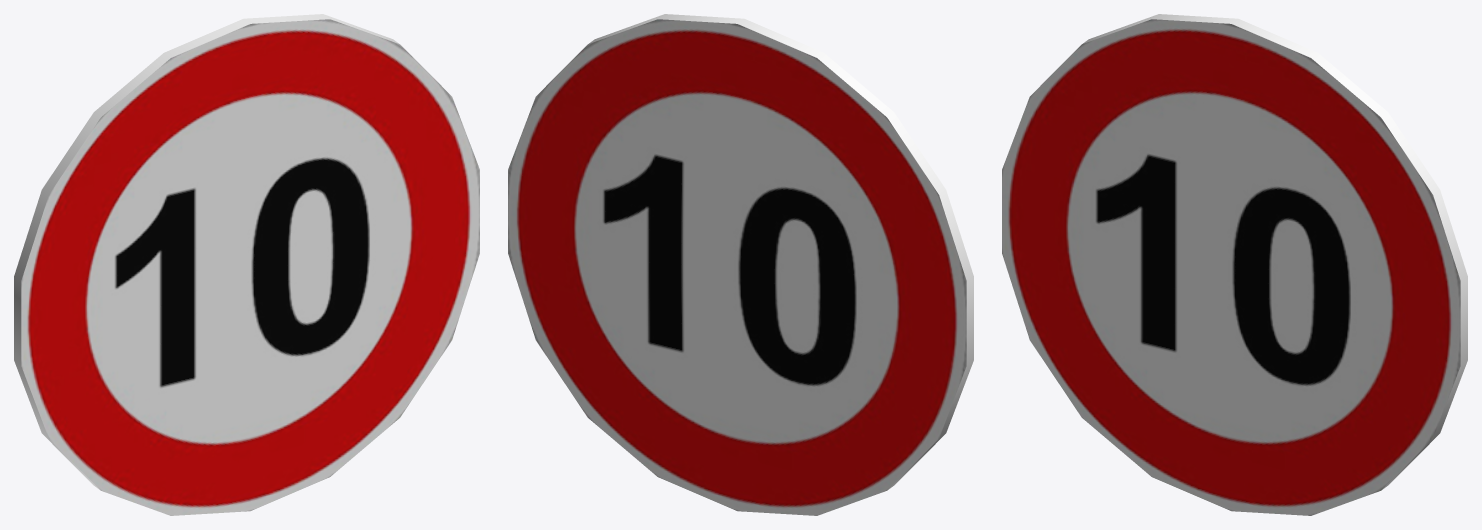
File: mesh_sign_speed_limit.FBX
3 views of the same model, side by side, from view 1: azimuth 30°, elevation 25°; view 2: azimuth 150°, elevation 25°; view 3: azimuth 330°, elevation 25° (orthographic).
Visible parts, largest first — view 1: Object172; view 2: Object172; view 3: Object172.
Part boxes in pixels (x1,y1,x2,y2): Object172: [14, 14, 479, 515]; Object172: [508, 14, 973, 515]; Object172: [1002, 14, 1467, 515].
Bounding box in the file's own units: 0.7896 × 0.8018 × 0.0211.
Materials: 1 (1 with a texture image).
